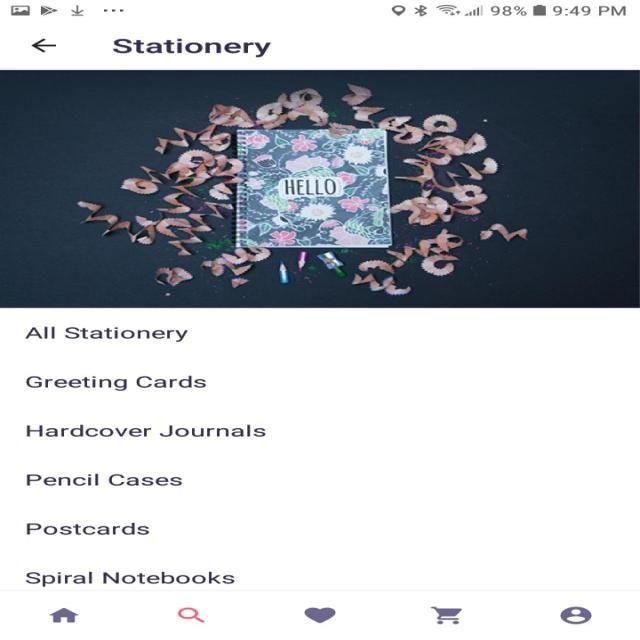Icon: (430, 606, 462, 624), (559, 606, 591, 624), (304, 606, 336, 623), (50, 607, 80, 622), (177, 607, 204, 622), (31, 38, 57, 53)
Image: (0, 70, 639, 308)
Text: (26, 570, 234, 587), (112, 38, 271, 58), (26, 424, 266, 437), (25, 375, 206, 391), (25, 326, 188, 342), (26, 473, 182, 486), (26, 522, 150, 535)
